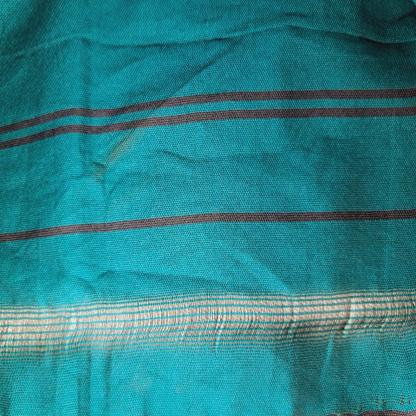spot: (101, 130, 146, 171)
